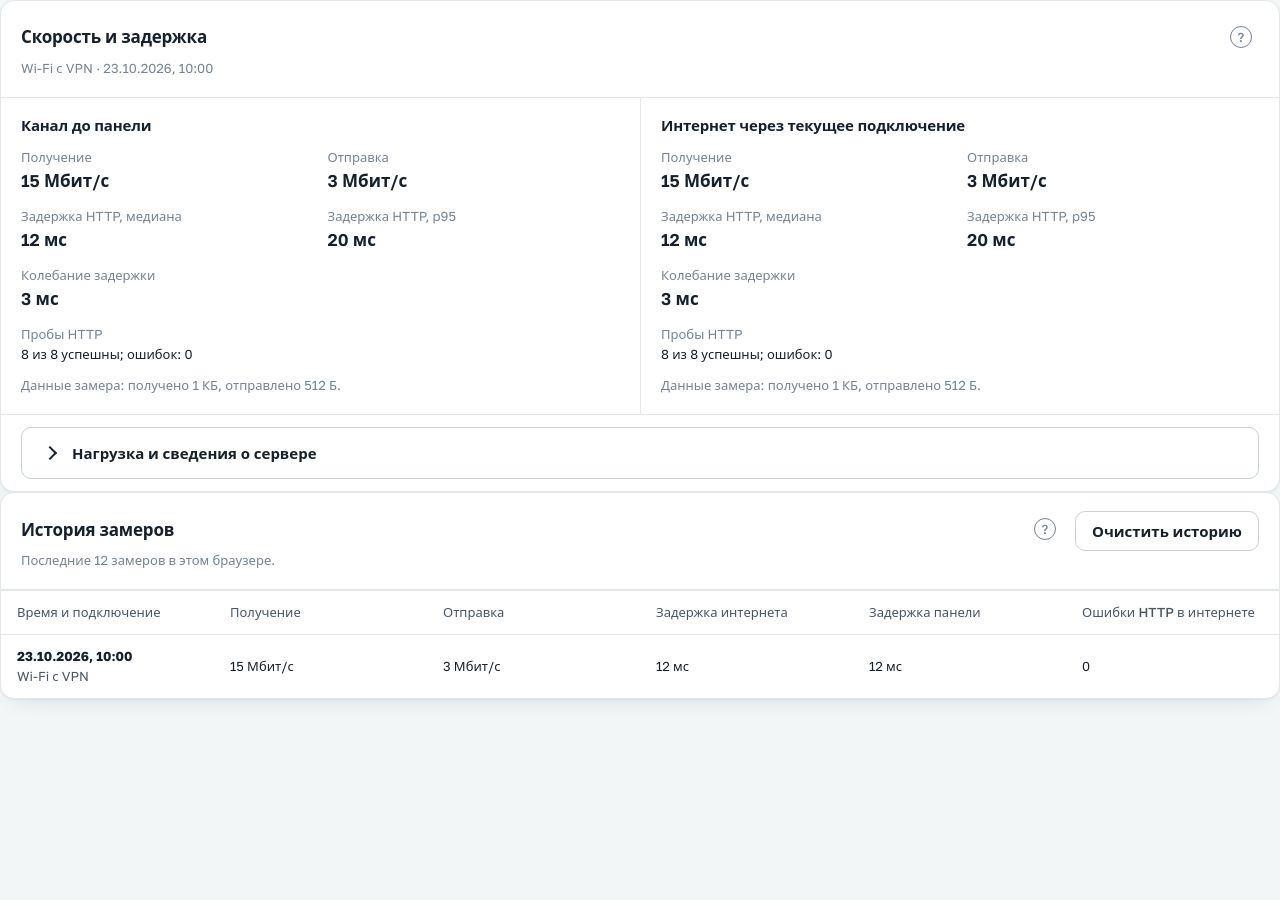
Test: extended diagnostics › keeps the complete history in one semantic table with labelled mobile values
The width and height of the screenshot is (1280, 900).
Check: the column heading "23.10.2026, 10:00 Wi-Fi с VPN" is shown, box [1,635,214,698]
Step 1. Click the button "Очистить историю" → coordinates (1167, 531), box [1075,511,1259,551]
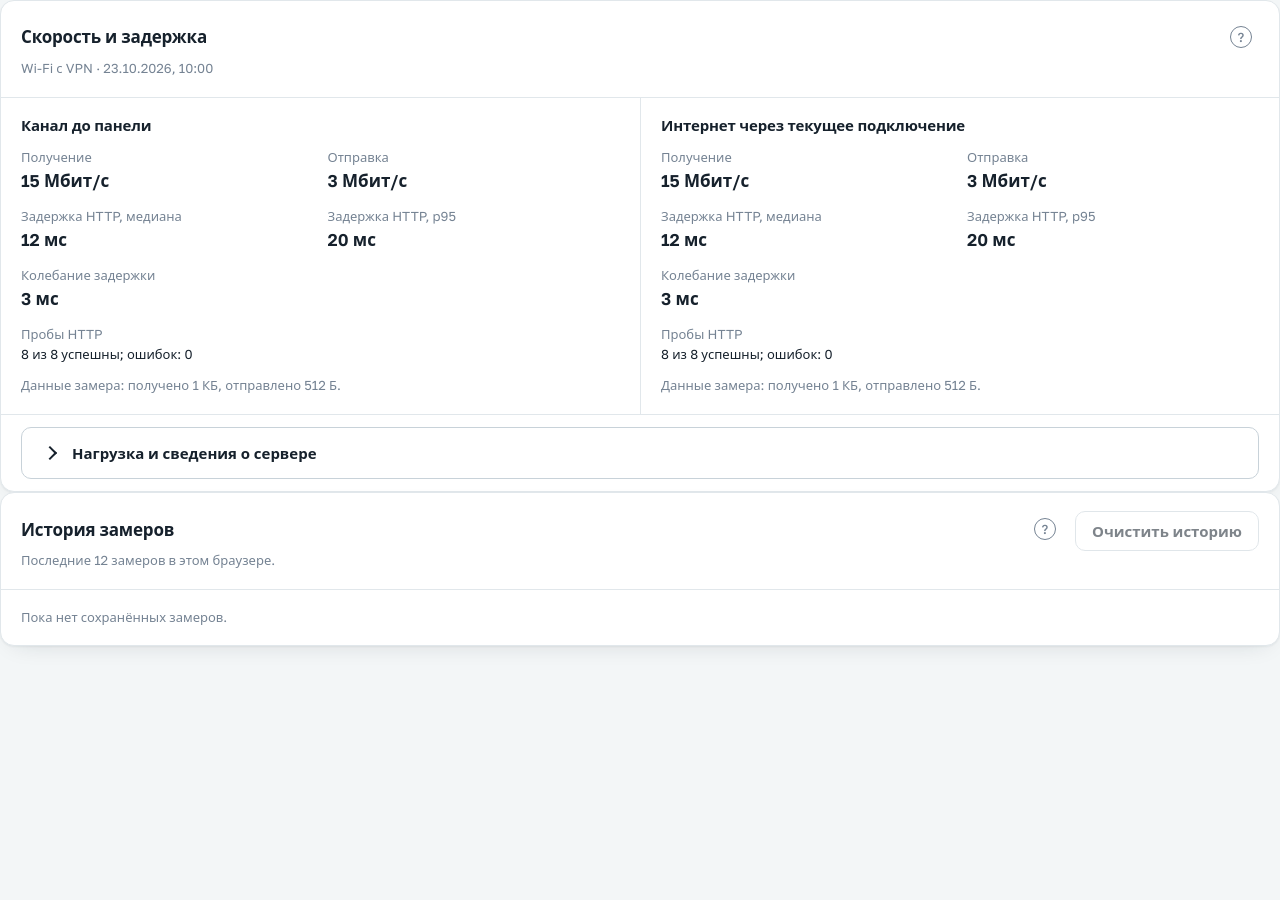
Check: the table is gone
Check: the text "Пока нет сохранённых замеров." is shown, box [21,609,227,625]
